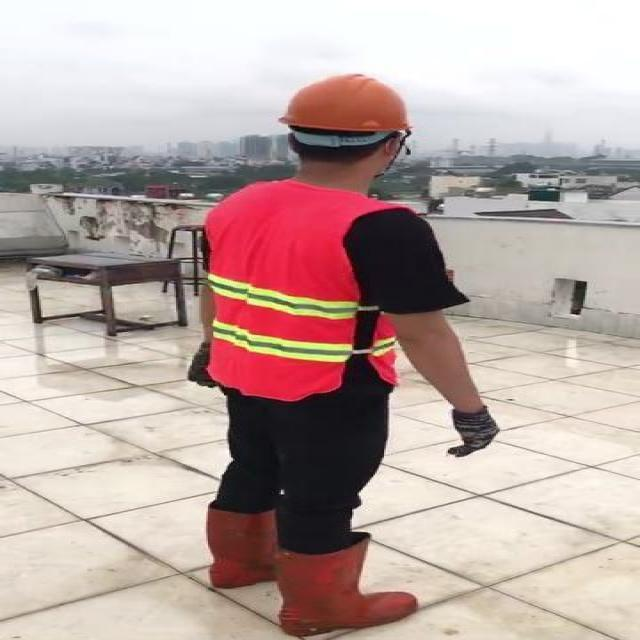boots: (266, 538, 418, 634), (201, 502, 274, 588)
gloves: (448, 407, 500, 459)
helmet: (275, 68, 417, 138)
vest: (208, 179, 398, 398)
